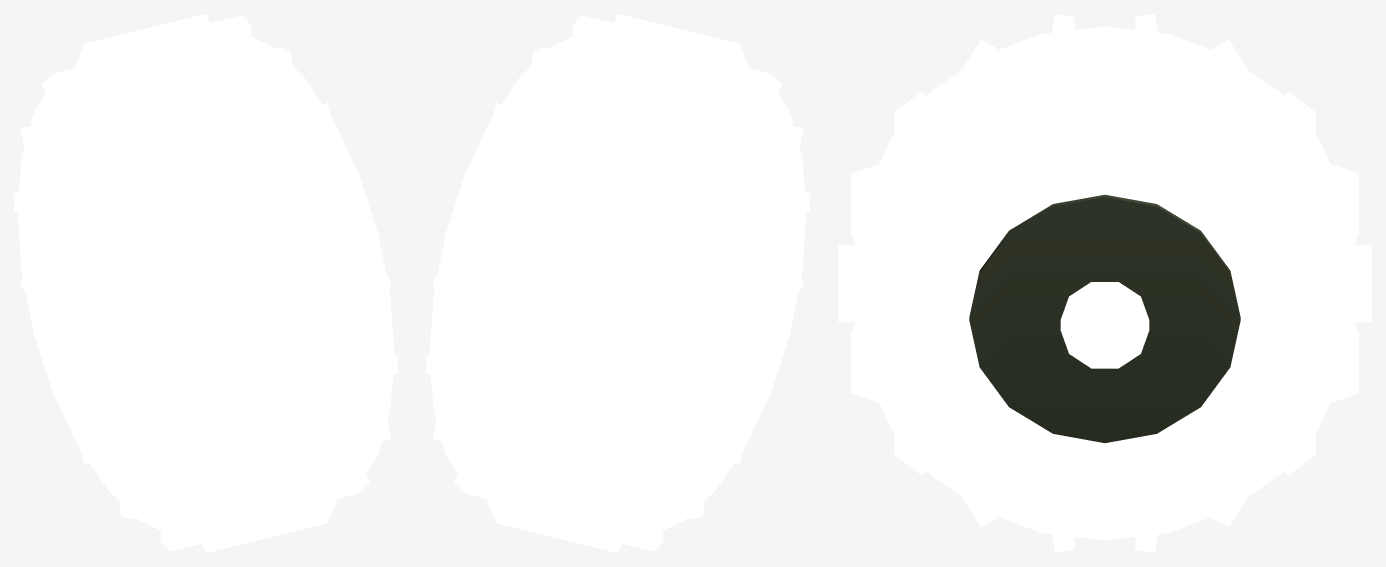
The model's file is wheel_truck.glb.
The picture shows the model from 3 angles, left to right: view 1: azimuth 30°, elevation 25°; view 2: azimuth 150°, elevation 25°; view 3: azimuth 270°, elevation 25°; orthographic projection.
Visible parts, largest first — view 1: wheel_truck_LOD0; view 2: wheel_truck_LOD0; view 3: wheel_truck_LOD0.
Boxes of the visible parts, <box> form: wheel_truck_LOD0: <box>14,14,397,552</box>; wheel_truck_LOD0: <box>426,14,809,552</box>; wheel_truck_LOD0: <box>838,14,1371,552</box>.
Size of what is drawn, in the model's own units: 0.485 by 1.34 by 1.35.
